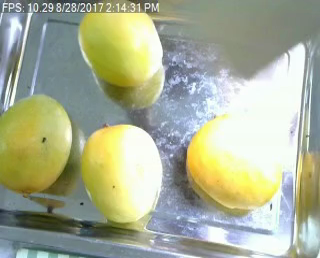Mango: (184, 116, 278, 210), (81, 123, 166, 221), (0, 95, 72, 197), (76, 0, 162, 85)
